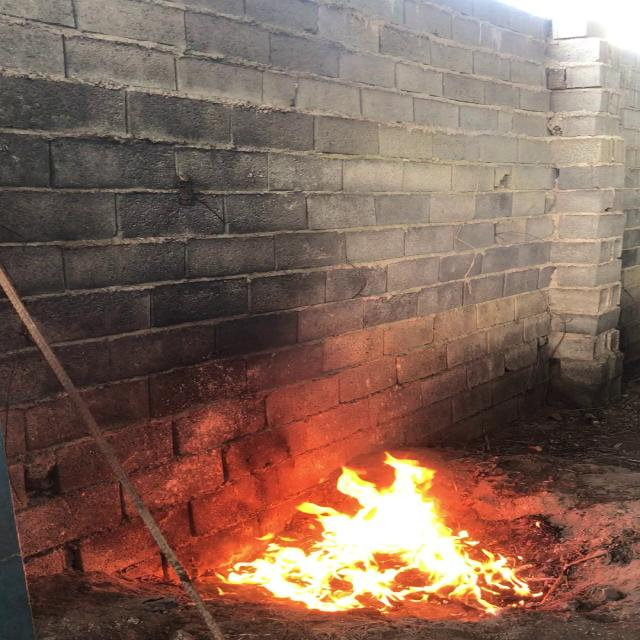fire: (209, 458, 527, 620)
